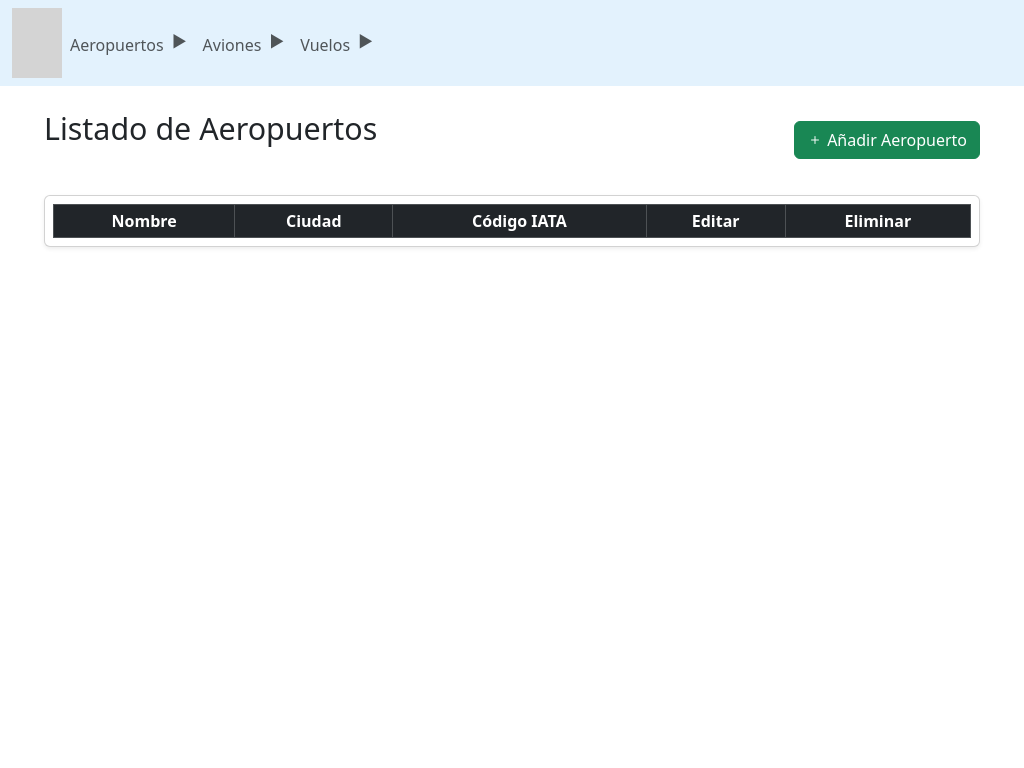
Test: Gestión de Aeropuertos › permite abrir el modal para añadir aeropuerto
What coordinates should you click on to do the following:
click the button "Añadir Aeropuerto"
I would click on:
 (887, 140)
Its box is [794,121,980,159].
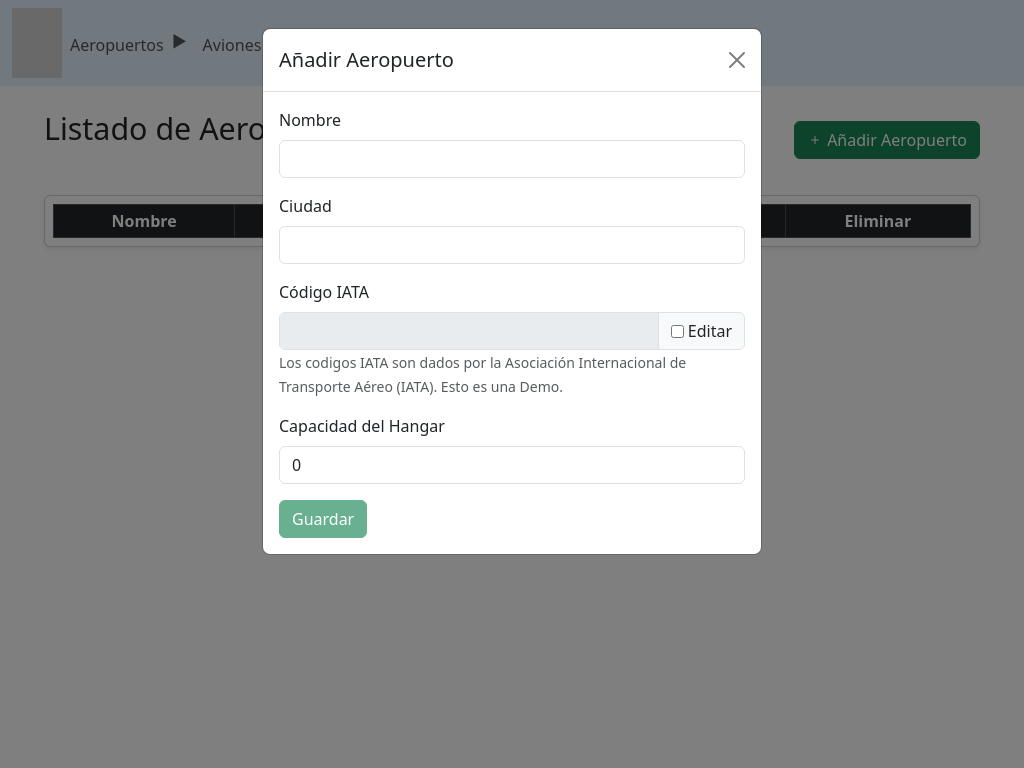
Now the dialog with id "modalAeropuerto" is shown, box [262,28,762,555]
